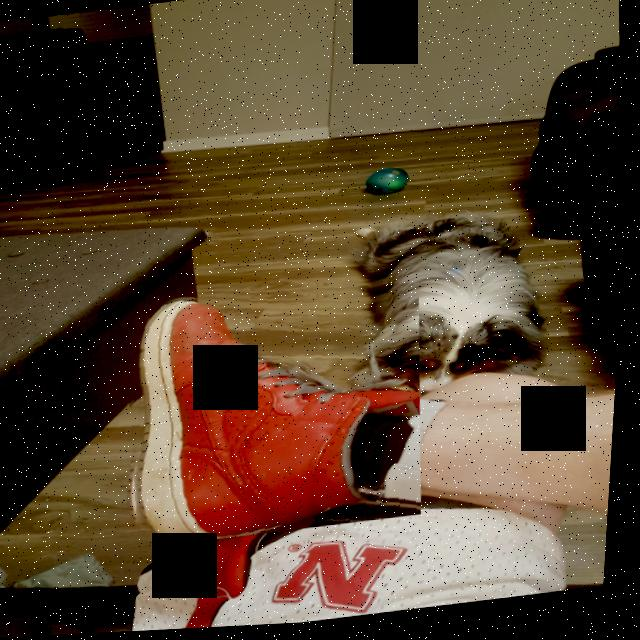shoe: (115, 269, 439, 552)
